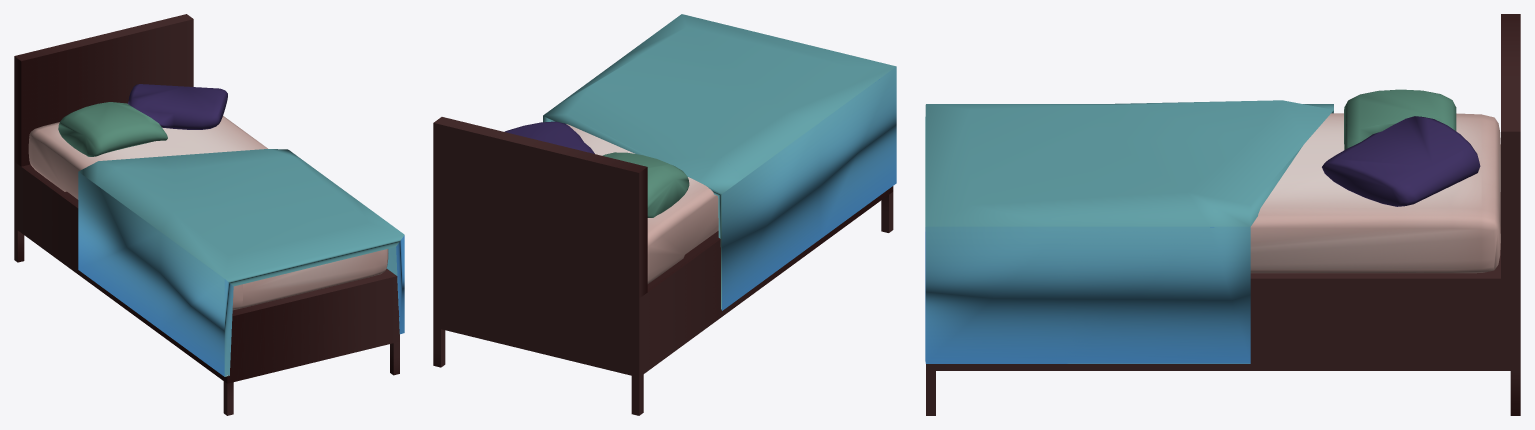
The model's file is BedUVFriendlyFinal.fbx.
3 renders of one model, left to right at view 1: azimuth 30°, elevation 25°; view 2: azimuth 150°, elevation 25°; view 3: azimuth 270°, elevation 25°, orthographic. The views are drawn at different scales.
Parts seen in each view (by area): view 1: Cube, Legs, Bed, Pillow; view 2: Legs, Cube, Bed, Pillow; view 3: Cube, Legs, Bed, Pillow.
Part boxes in pixels (box(x1,y1,x2,y2)): Cube: box(78, 149, 404, 376); Legs: box(14, 14, 399, 415); Bed: box(28, 116, 388, 310); Pillow: box(58, 84, 227, 156); Legs: box(433, 117, 893, 415); Cube: box(543, 14, 896, 310); Bed: box(566, 124, 718, 283); Pillow: box(504, 121, 689, 217); Cube: box(925, 100, 1333, 363); Legs: box(926, 14, 1520, 415); Bed: box(1250, 113, 1500, 273); Pillow: box(1322, 89, 1480, 206).
Bounding box in the file's own units: 318 × 343 × 651.
